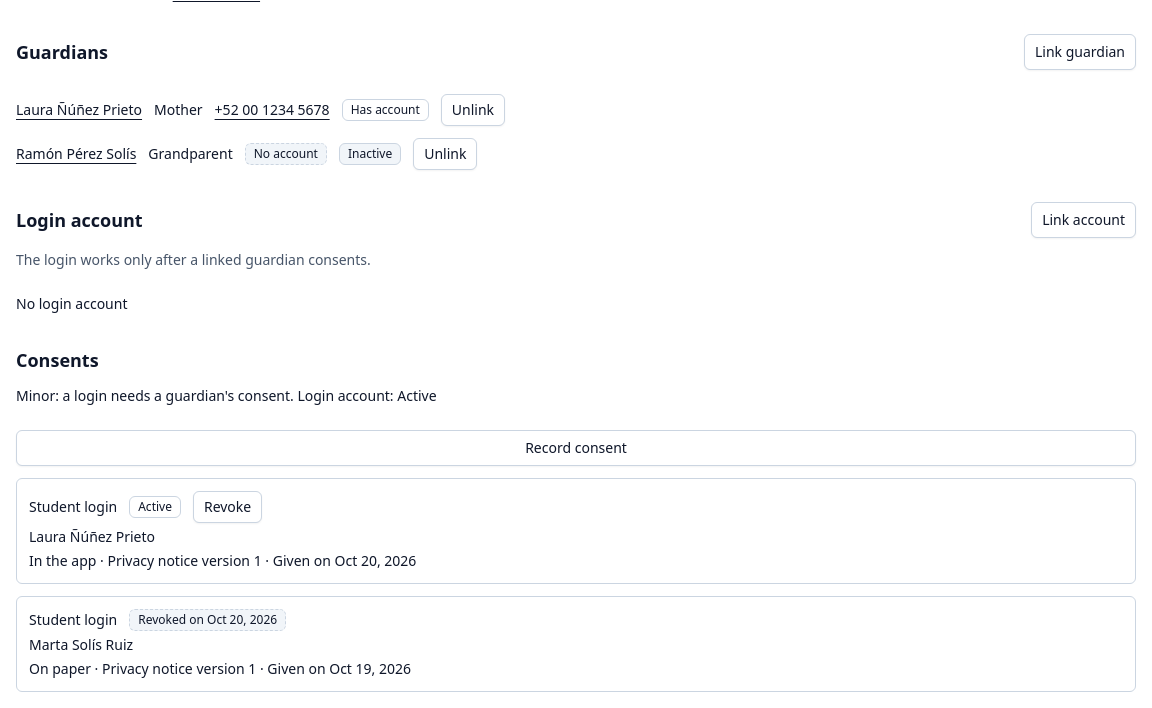
Test case: staff (I2) › a method error lands on the method group
(page scrolled)
Click the button "Record consent". click: (576, 448)
box: x1=16 y1=430 x2=1136 y2=466
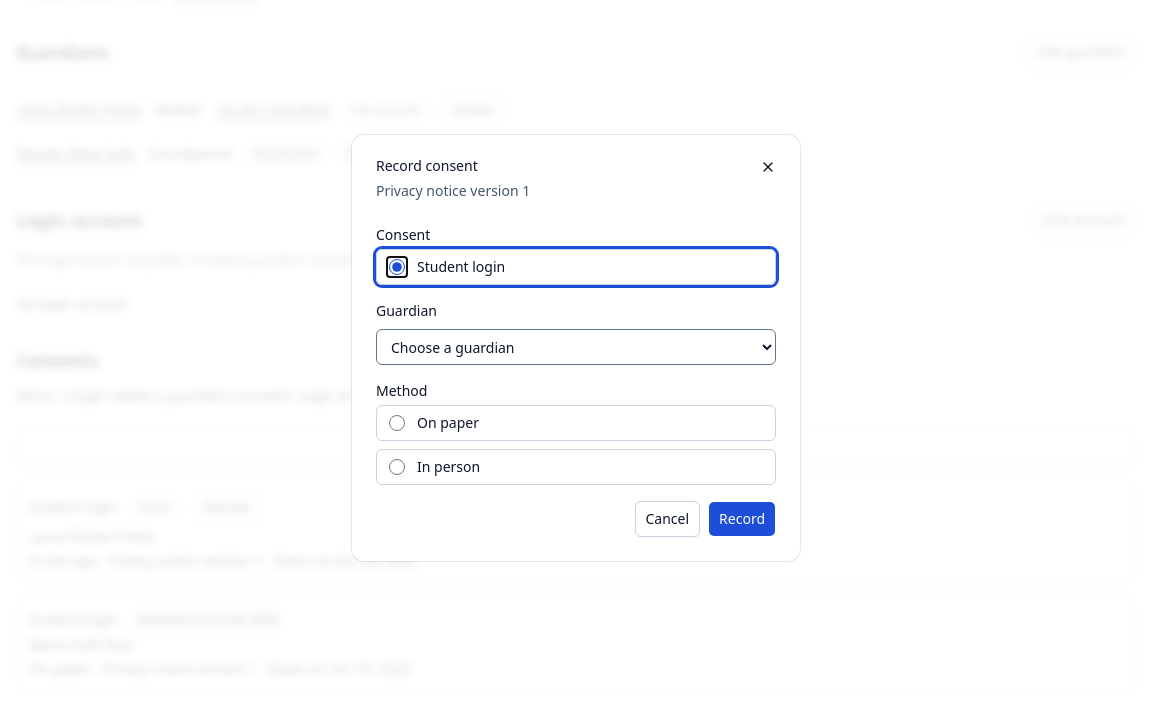
Select "Laura Ñúñez Prieto · Mother" in the dropdown labelled "Guardian". click: (576, 347)
box: x1=376 y1=329 x2=776 y2=365
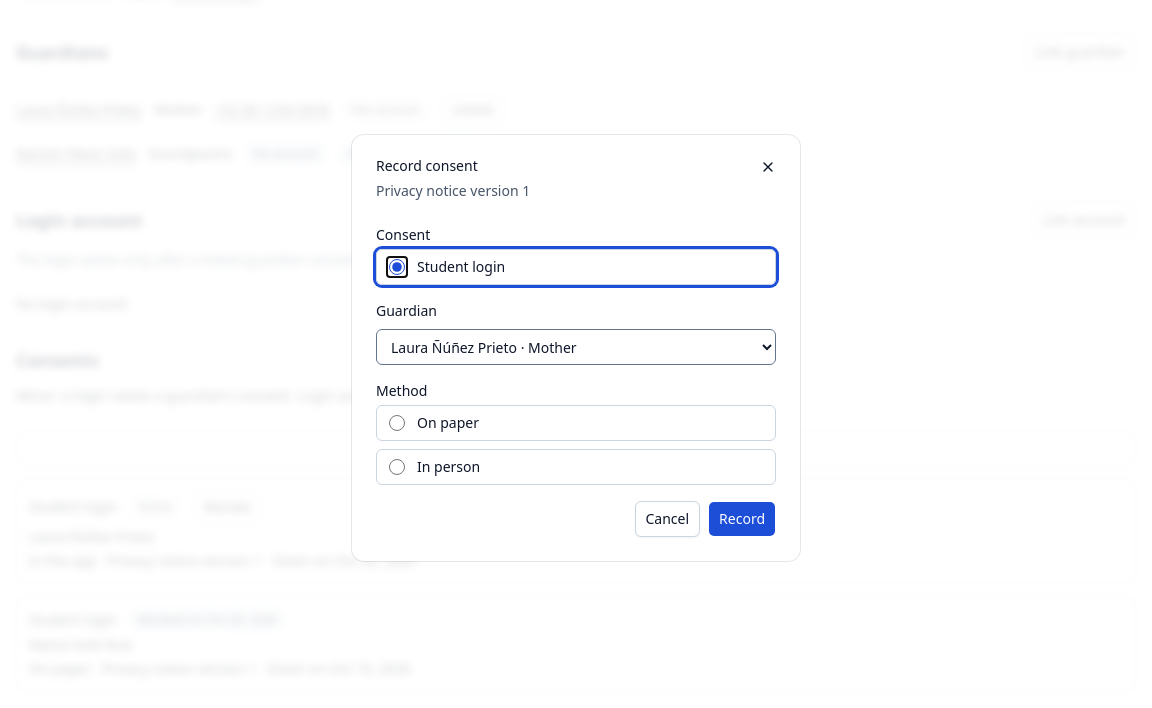
Click the radio button labelled "In person". click: (397, 467)
box: x1=389 y1=459 x2=405 y2=475
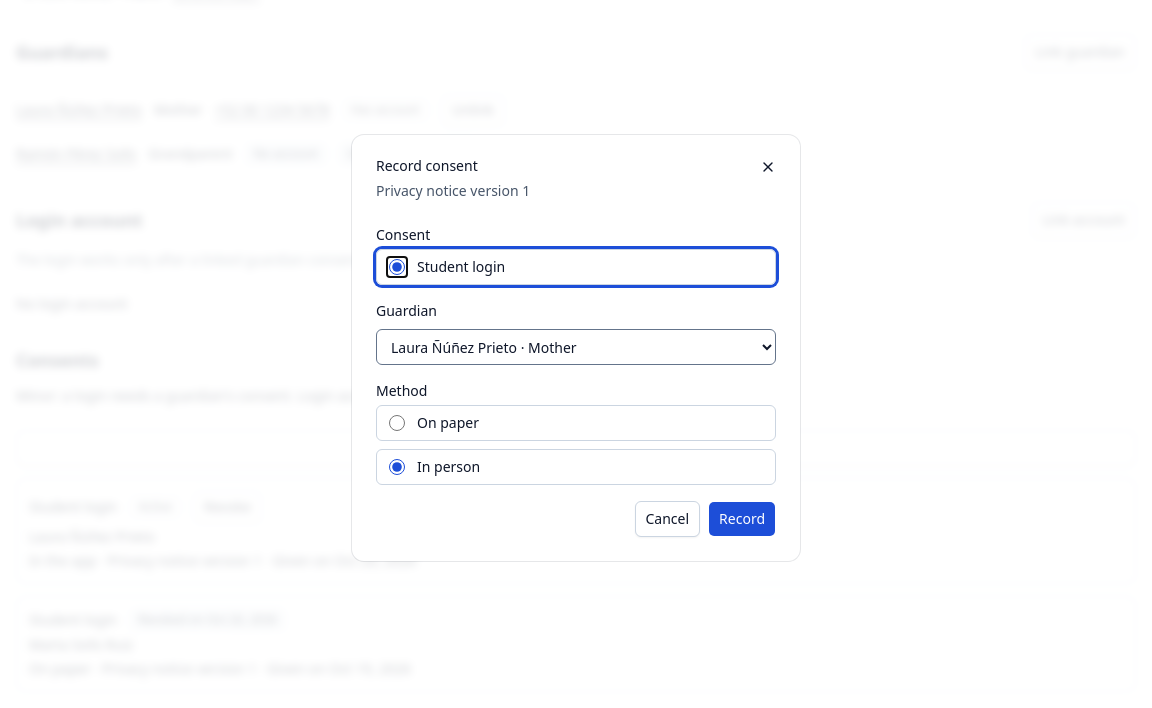
Click the button "Record". click: (742, 519)
box: x1=708 y1=501 x2=776 y2=537
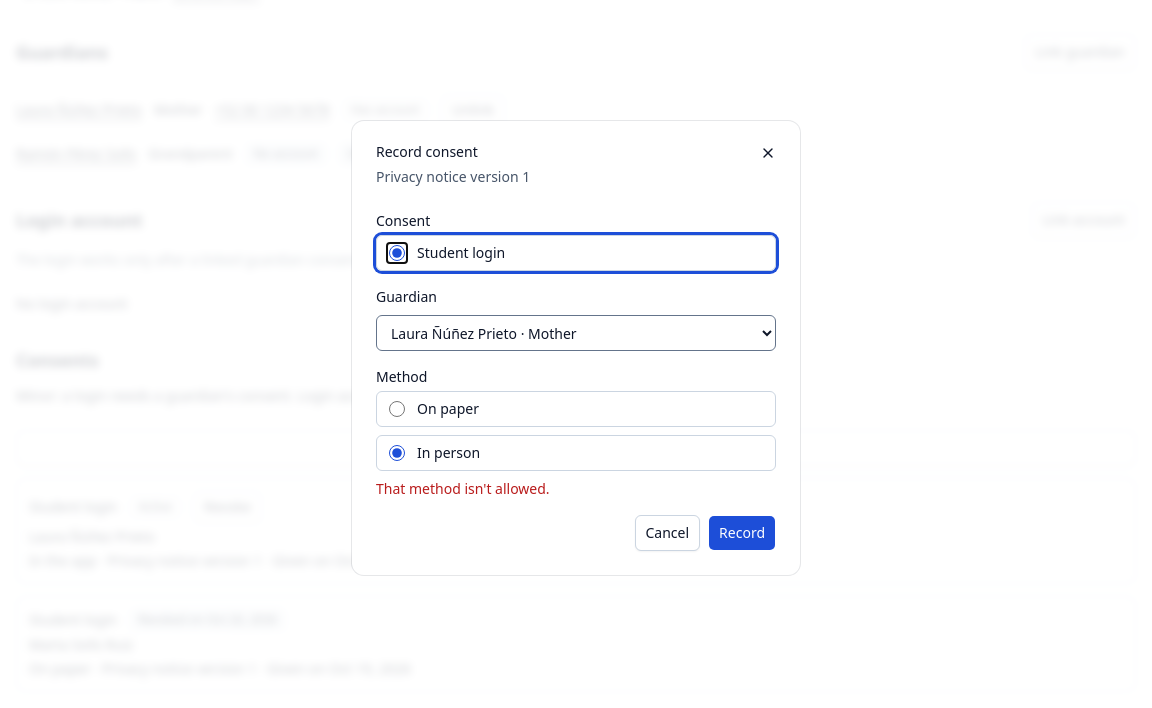
Expected: the text "That method isn't allowed." is shown, x1=376 y1=479 x2=550 y2=498
